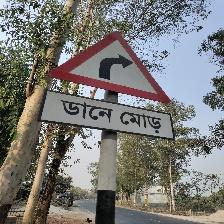Right-turn: (40, 30, 175, 140)
